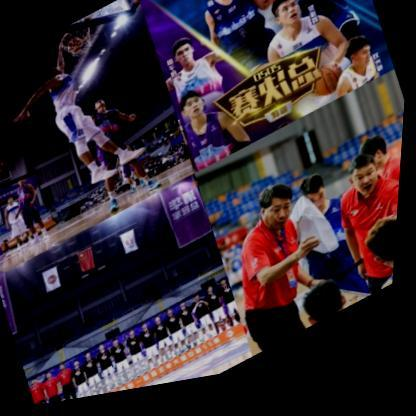basketball: (332, 0, 369, 16)
